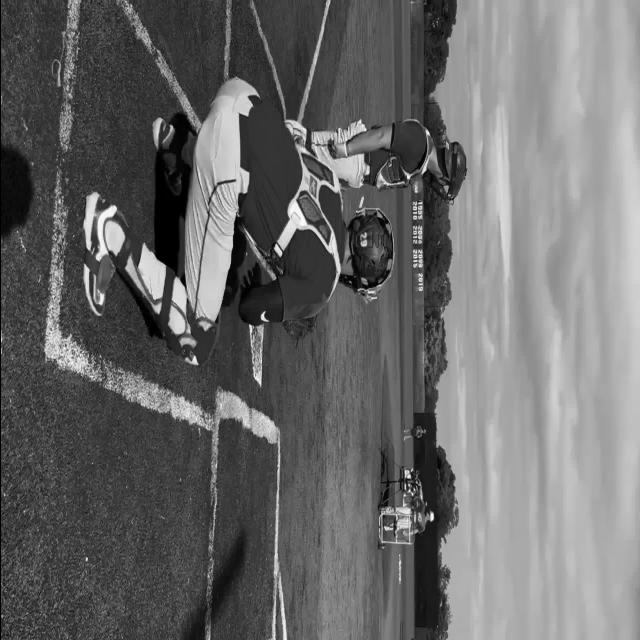base: (244, 308, 264, 392)
shoe: (82, 190, 118, 316), (150, 115, 190, 195)
